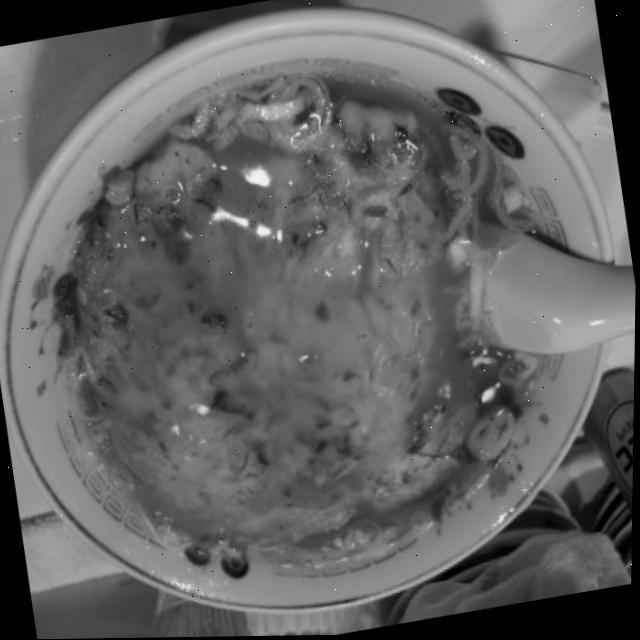面条主食: (14, 39, 596, 635)
